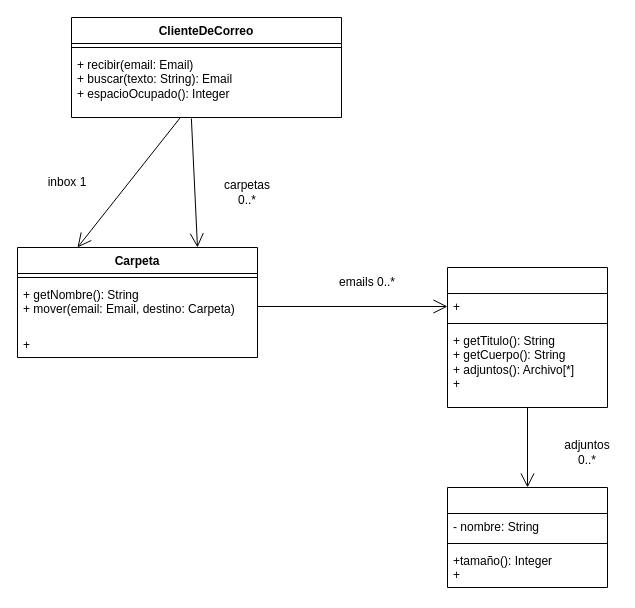
This 635x608 diagram has some shape labels left out. Here are the shapes that lost their labels. From the top down, the box of each, then its label:
(446, 266, 608, 408): Classname
(446, 486, 608, 588): Archivo
